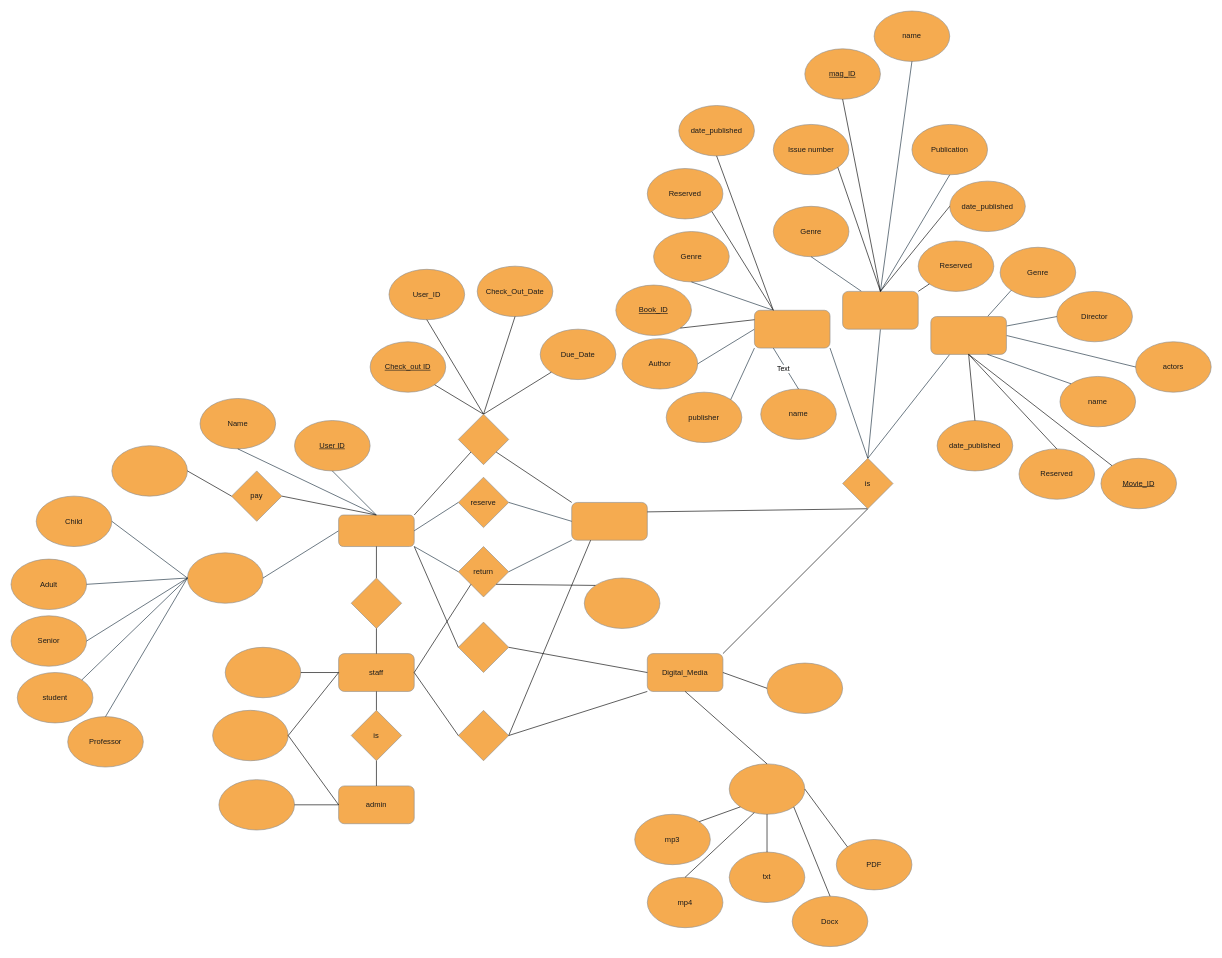
Image size: 1222x958. Some labels were removed from this diagram. The shapes that lost their labels are listed below. From the top down, each one's centre as x and y in pixels, then its label:
(792,329): book
(880,310): magazine
(968,335): movie
(483,439): check_out
(149,470): Fees
(376,530): User
(609,521): media
(225,577): Role
(376,602): mange
(622,602): Return_Date
(483,647): Download
(263,672): Staff_privilege
(804,687): Digital_Media_ID
(250,735): staff_ID
(483,735): add_to
(256,804): admin_privilege
(767,788): File_Type
